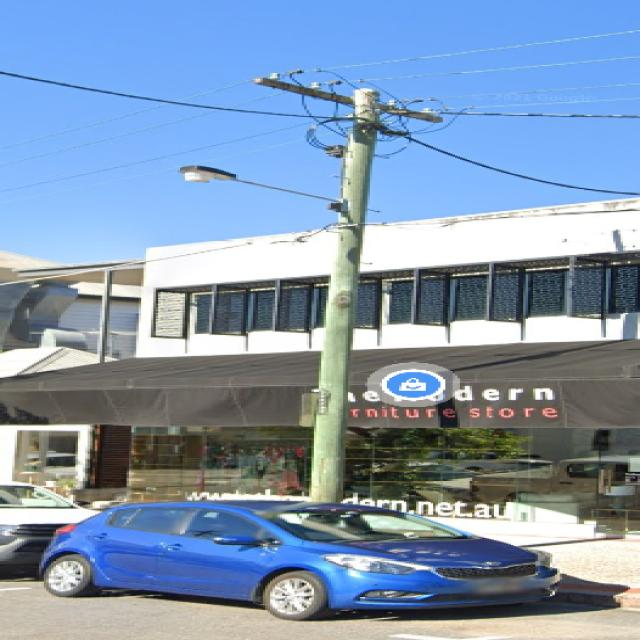crossarm: (253, 74, 442, 124)
mid mount pole: (251, 75, 445, 506)
streetlight: (176, 164, 354, 210)
timber-pole: (309, 88, 386, 504)
